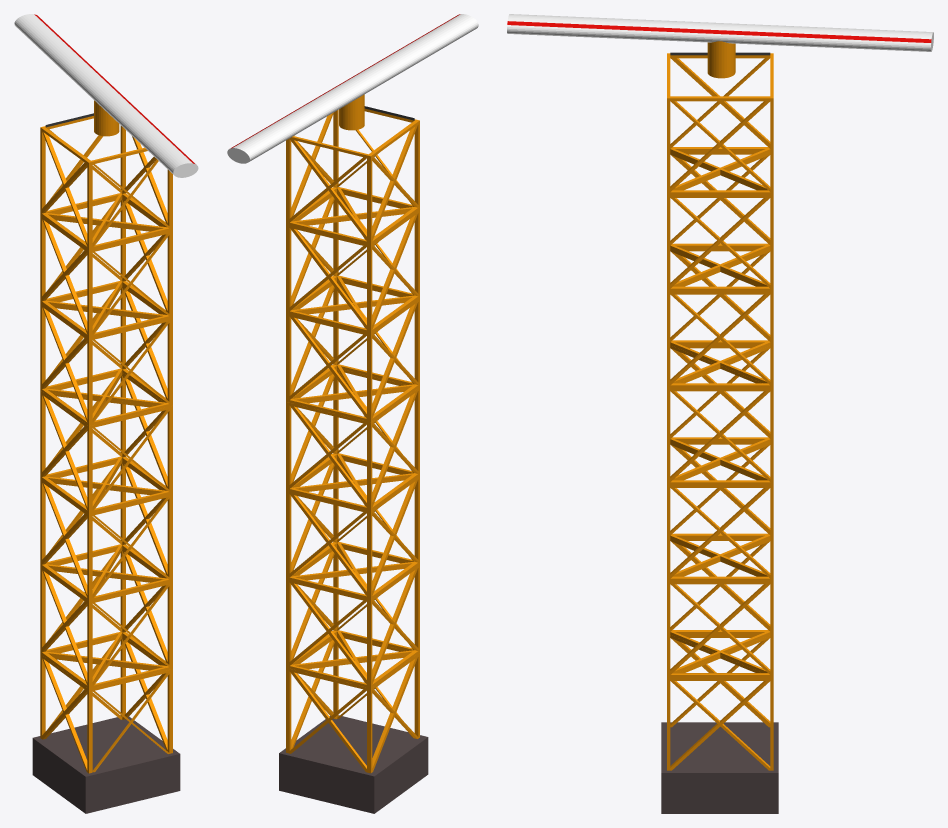
Rendered from lotnisko.fbx.
The picture shows the model from 3 angles, left to right: view 1: azimuth 30°, elevation 25°; view 2: azimuth 150°, elevation 25°; view 3: azimuth 270°, elevation 25°; orthographic projection. The views are drawn at different scales.
Visible parts, largest first — view 1: lotnisko, Cylinder; view 2: lotnisko, Cylinder; view 3: lotnisko, Cylinder.
Boxes of the visible parts, <box> form: lotnisko: <box>32,100,180,813</box>; Cylinder: <box>14,14,198,177</box>; lotnisko: <box>279,94,428,813</box>; Cylinder: <box>227,14,478,163</box>; lotnisko: <box>661,41,778,813</box>; Cylinder: <box>507,14,933,51</box>.
Bounding box in the file's own units: 857 × 6019 × 3051.
